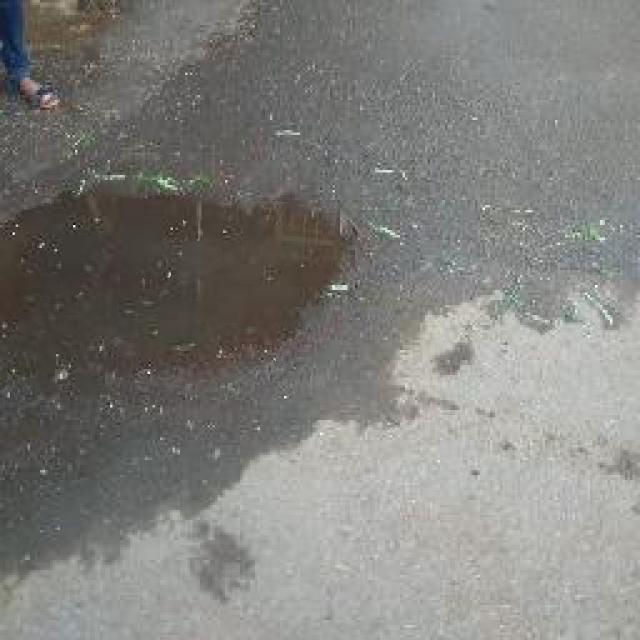puddle: (11, 193, 335, 399)
